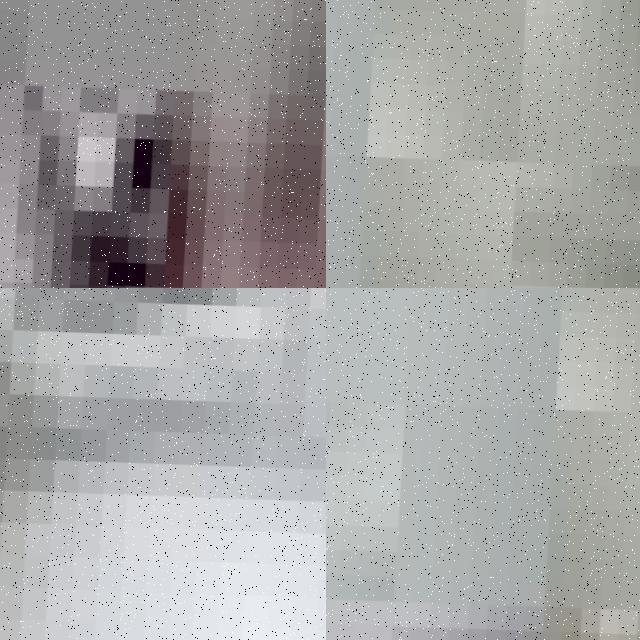0: (326, 288, 640, 640), (0, 0, 326, 288), (326, 0, 640, 288)
drone: (0, 288, 326, 640)
